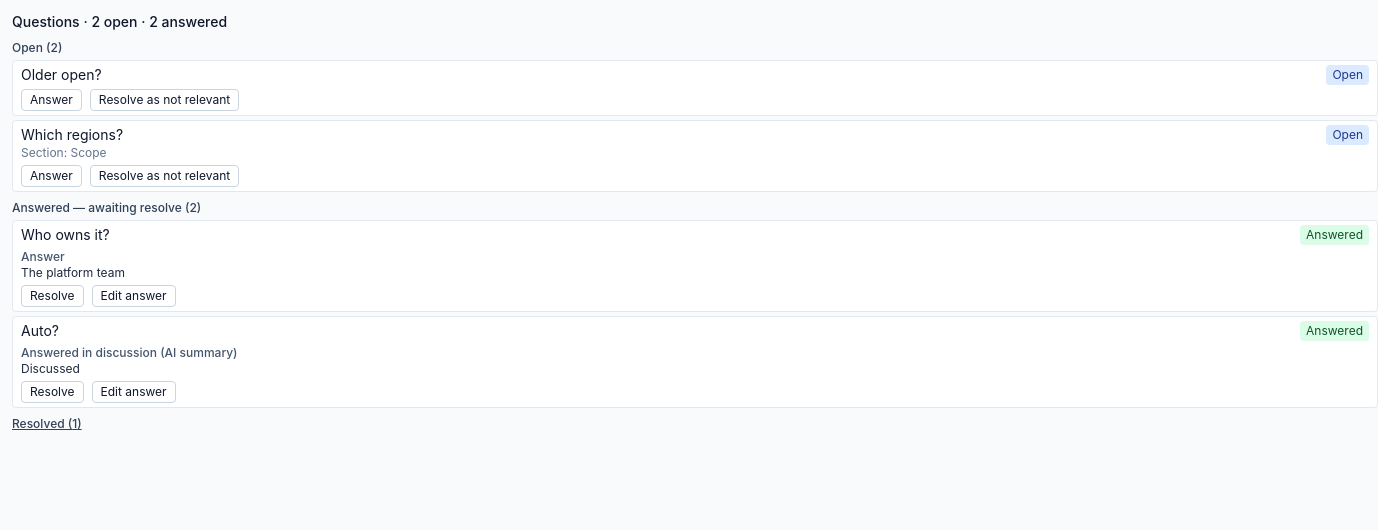
QuestionsList › answers inline, shows progress, then patched sections
Click the button "Answer" below "Which regions?".
click(51, 176)  # box [21,165,82,187]
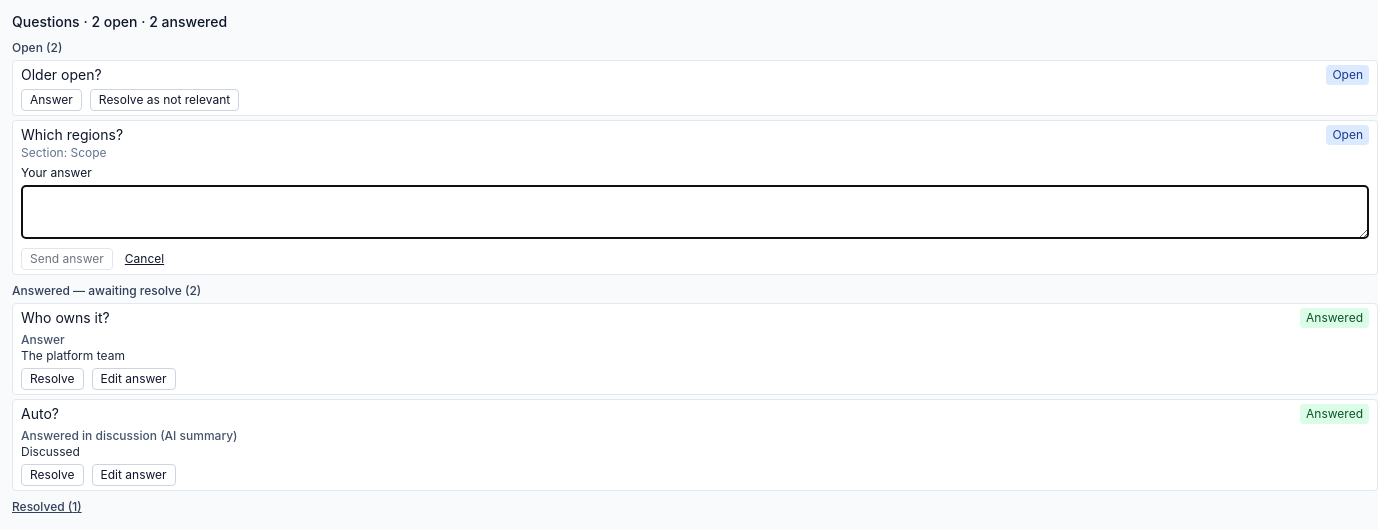
Type "EU only" into the text box labelled "Your answer".
click(695, 212); type("EU only")  # box [21,185,1369,239]
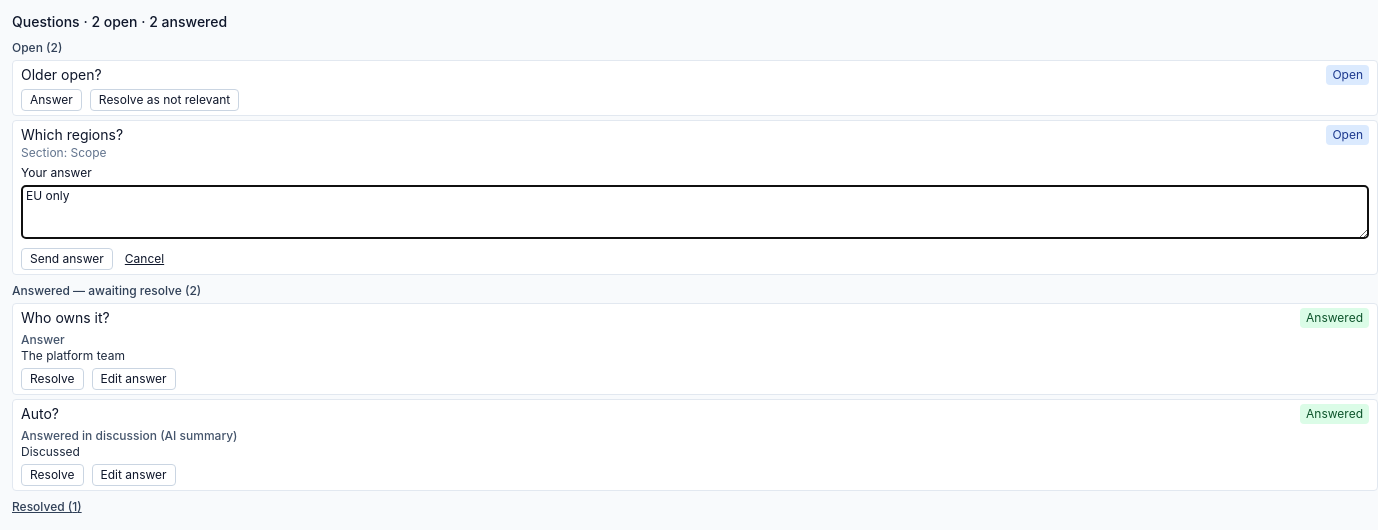
Press Enter in the text box labelled "Your answer", box [21,185,1369,239]
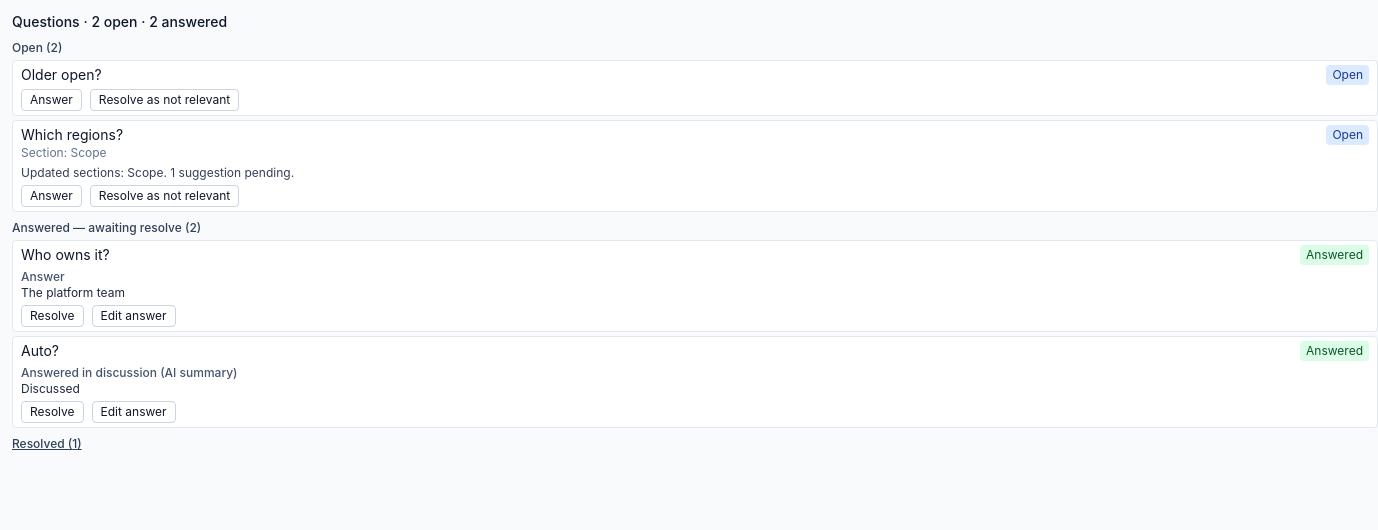
Result: the text "Updated sections: Scope. 1 suggestion pending." is shown at [21,165,294,180]
